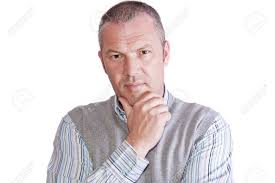white_male: (94, 24, 160, 107)
